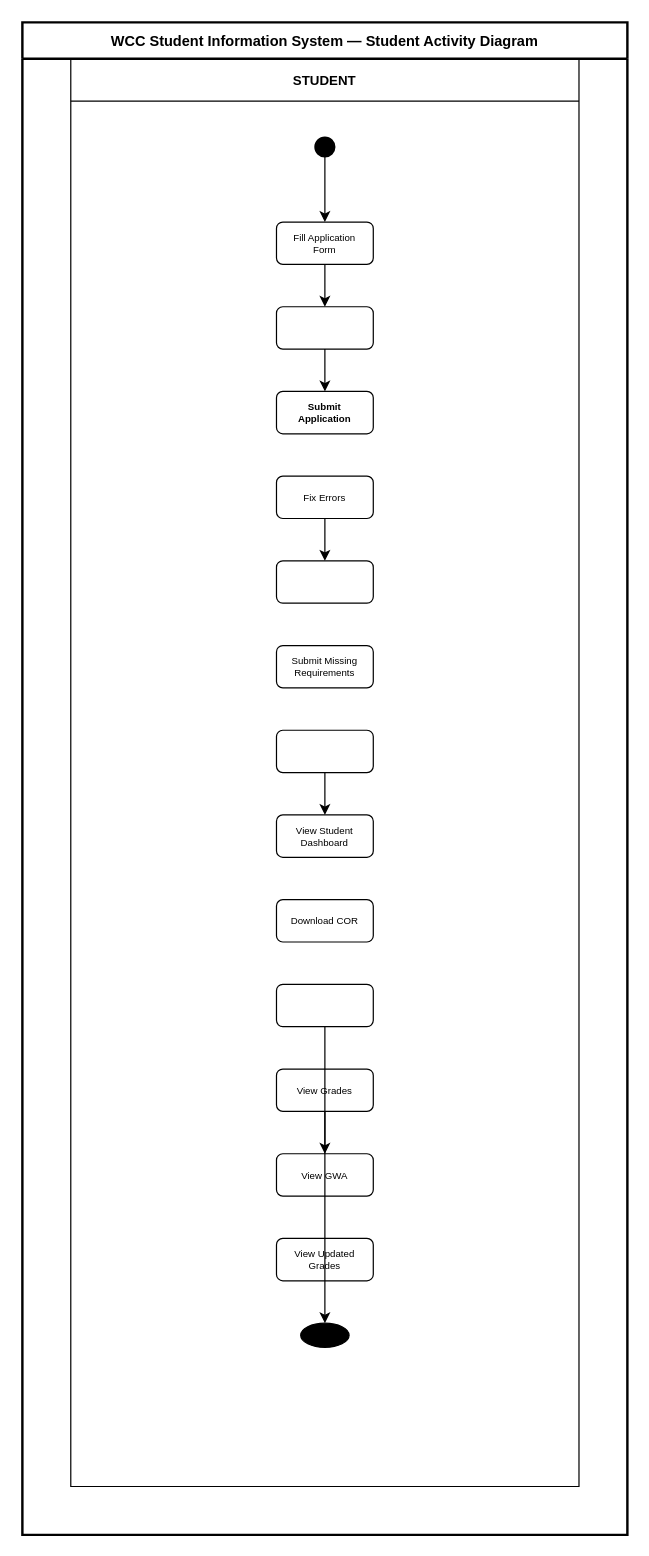
This 649x1556 diagram has some shape labels left out. The shapes that lost their labels are listed below. From the top down, each one's centre as x and y in pixels, then its label:
At point (324, 327): "Select Course".
At point (324, 581): "Resubmit".
At point (324, 751): "Log In".
At point (324, 1005): "Read Announcements".
At point (324, 1334): "END".
